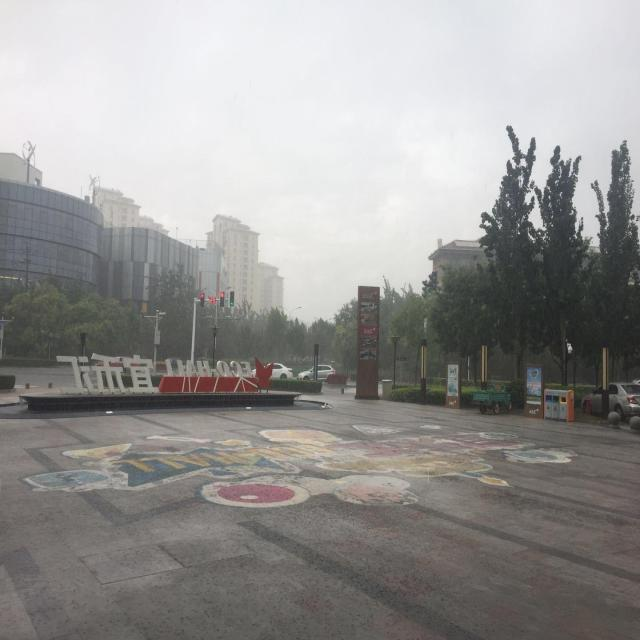car: (580, 382, 640, 417), (296, 364, 338, 383), (94, 354, 140, 371), (248, 362, 292, 379)
